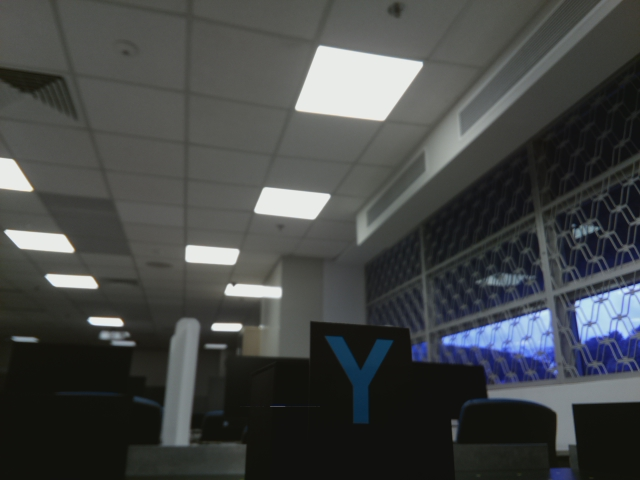y: (325, 335, 398, 424)
